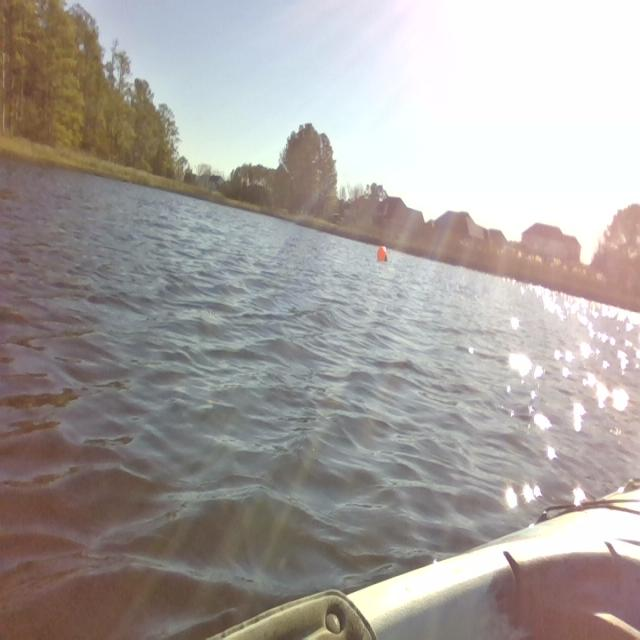Buoy: (374, 242, 392, 268)
